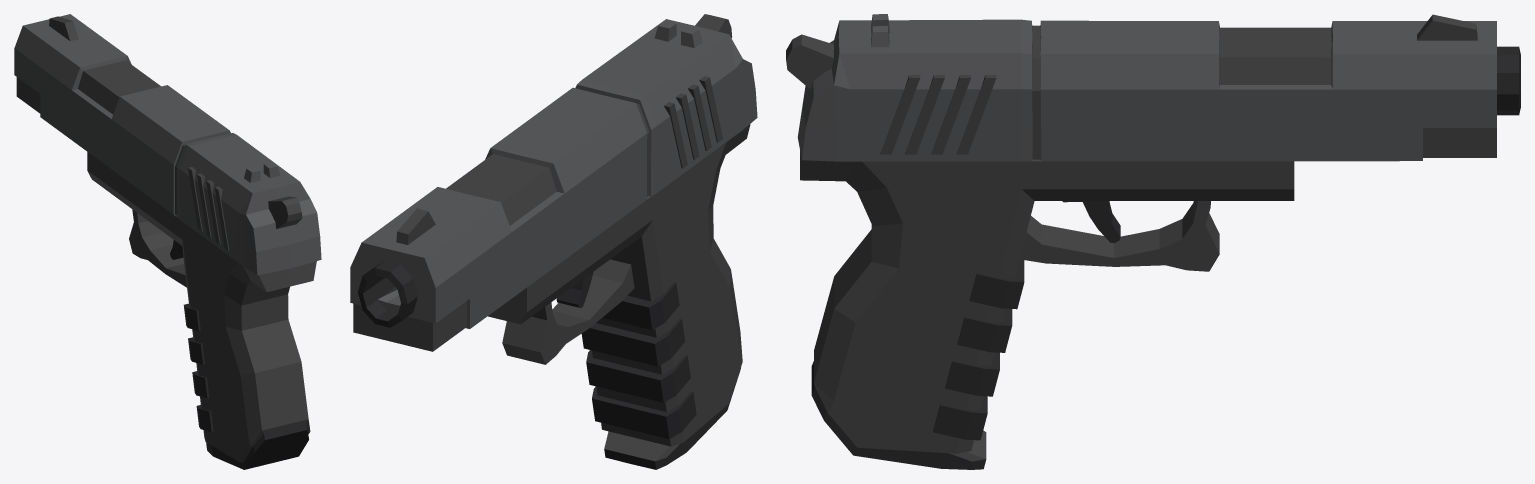
File: pistol.glb
The picture shows the model from 3 angles, left to right: view 1: azimuth 30°, elevation 25°; view 2: azimuth 150°, elevation 25°; view 3: azimuth 270°, elevation 25°; orthographic projection. The views are drawn at different scales.
Visible parts, largest first — view 1: Pistol_5; view 2: Pistol_5; view 3: Pistol_5.
Boxes of the visible parts, x1=… form: Pistol_5: x1=14, y1=14, x2=321, y2=469; Pistol_5: x1=350, y1=14, x2=757, y2=469; Pistol_5: x1=786, y1=14, x2=1520, y2=469.
Size of the model in its own units: 0.0302 by 0.1318 by 0.2.
Materials: 1 (1 with a texture image).
